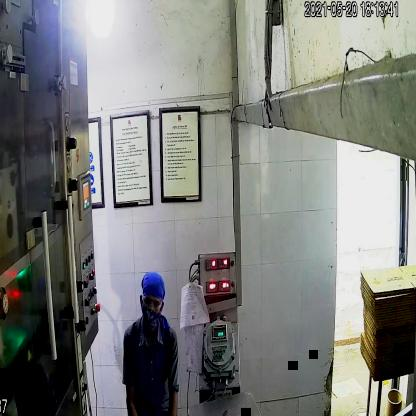goggles: (138, 291, 166, 315)
